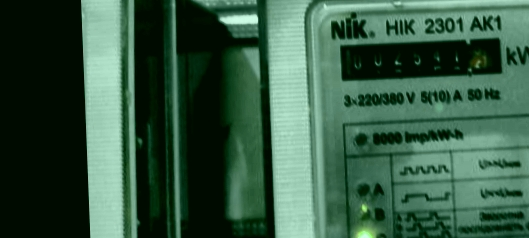0: (348, 49, 362, 70), (369, 46, 382, 67)
1: (448, 44, 460, 64)
2: (389, 46, 402, 67)
4: (429, 44, 442, 65)
5: (408, 44, 421, 67)
6: (471, 55, 482, 70)
screen: (328, 28, 512, 89)
